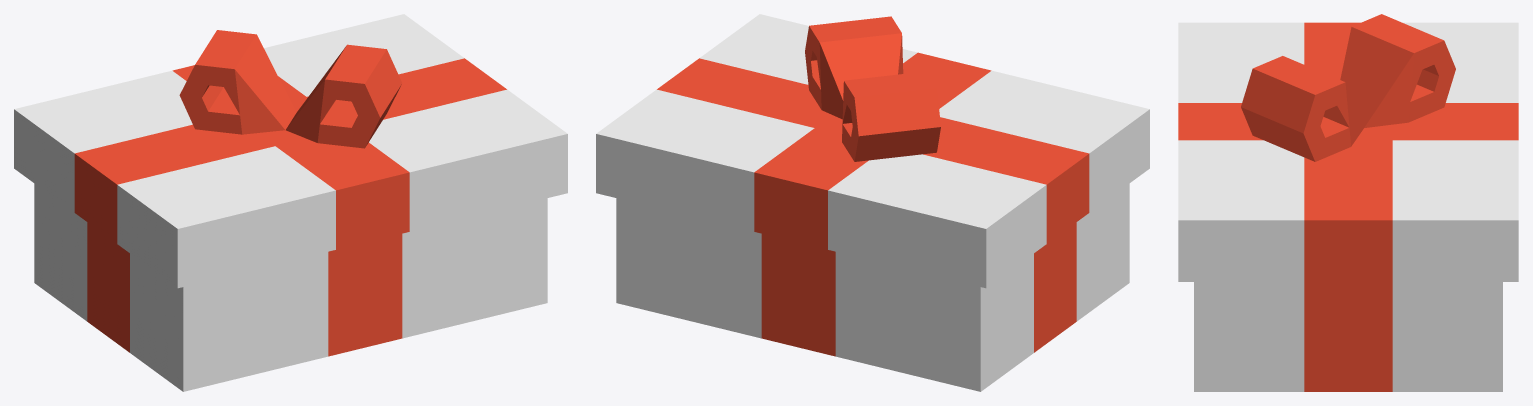
Rendered from presentLow.fbx.
The picture shows the model from 3 angles, left to right: view 1: azimuth 30°, elevation 25°; view 2: azimuth 150°, elevation 25°; view 3: azimuth 270°, elevation 25°; orthographic projection. The views are drawn at different scales.
Visible parts, largest first — view 1: lid 1, presentLow; view 2: lid 1, presentLow; view 3: lid 1, presentLow.
Boxes of the visible parts, x1,y1,x2,y2 form: lid 1: (14, 14, 567, 288); presentLow: (34, 183, 547, 391); lid 1: (596, 14, 1149, 288); presentLow: (616, 183, 1129, 391); lid 1: (1178, 14, 1518, 281); presentLow: (1194, 282, 1502, 391).
Bounding box in the file's own units: 5.13 × 2.96 × 3.73.
